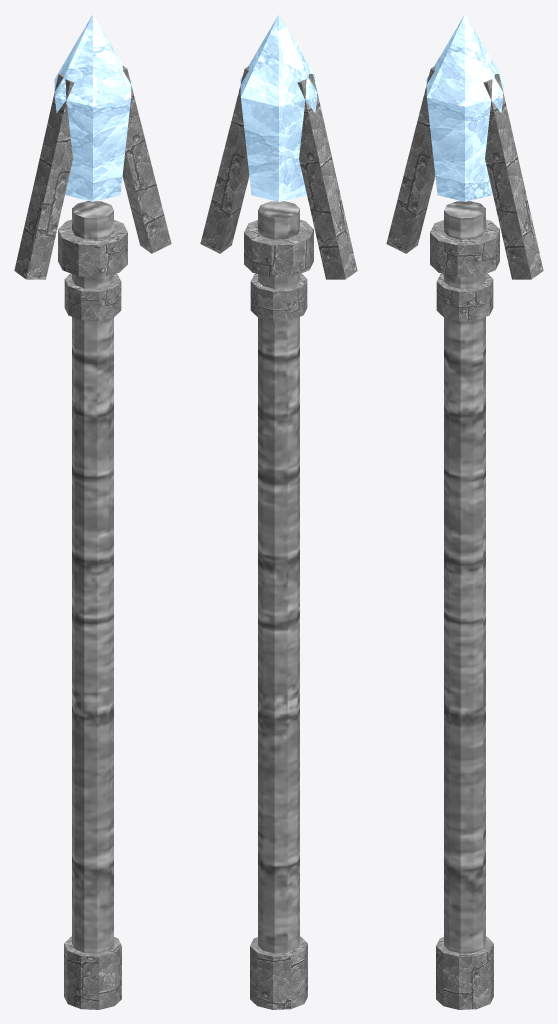
Rendered from Magenheim_Staff_Storm_Simple.glb.
3 renders of one model, left to right at view 1: azimuth 30°, elevation 25°; view 2: azimuth 150°, elevation 25°; view 3: azimuth 330°, elevation 25°, orthographic.
Parts seen in each view (by area): view 1: shaft, static-focus, left-conductor, right-conductor, pommel, conductor-band, neck; view 2: shaft, static-focus, left-conductor, right-conductor, pommel, conductor-band, neck; view 3: shaft, static-focus, right-conductor, left-conductor, pommel, conductor-band, neck.
Part boxes in pixels (<box>): shaft: <box>72,201,113,953</box>; static-focus: <box>54,14,131,201</box>; left-conductor: <box>14,74,74,279</box>; right-conductor: <box>122,65,171,253</box>; pommel: <box>64,936,121,1009</box>; conductor-band: <box>58,219,127,277</box>; neck: <box>64,273,121,321</box>; shaft: <box>258,201,299,953</box>; static-focus: <box>240,14,317,201</box>; left-conductor: <box>297,74,357,279</box>; right-conductor: <box>200,65,249,253</box>; pommel: <box>250,936,307,1009</box>; conductor-band: <box>244,219,313,277</box>; neck: <box>250,273,307,321</box>; shaft: <box>444,201,485,953</box>; static-focus: <box>426,14,503,201</box>; right-conductor: <box>483,74,543,279</box>; left-conductor: <box>386,65,435,253</box>; pommel: <box>436,936,493,1009</box>; conductor-band: <box>430,219,499,277</box>; neck: <box>436,273,493,321</box>.
Bounding box in the file's own units: 0.2859 × 1.85 × 0.1299.
3 materials, 3 textured.
